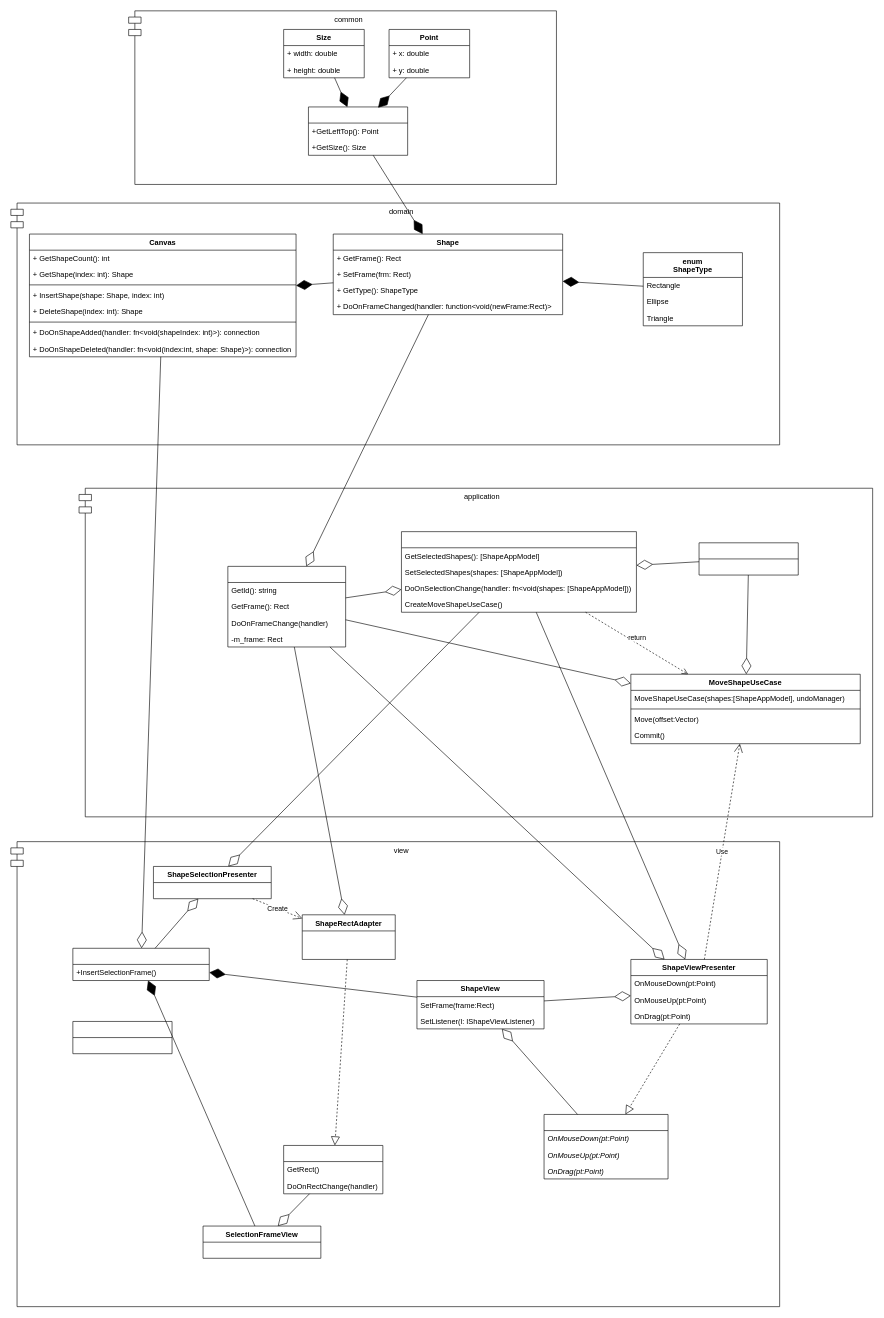
This 884x1318 diagram has some shape labels left out. Here are the shapes that lost their labels. From the top down, the box of each, then its label:
(308, 106, 408, 155): Rect
(401, 531, 636, 612): ShapeSelectionModel
(698, 542, 798, 575): UndoManager
(227, 566, 346, 647): ShapeAppModel
(72, 948, 209, 981): CanvasView
(72, 1021, 172, 1054): Menu
(543, 1114, 668, 1179): IShapeViewListener
(283, 1145, 383, 1194): IRect
